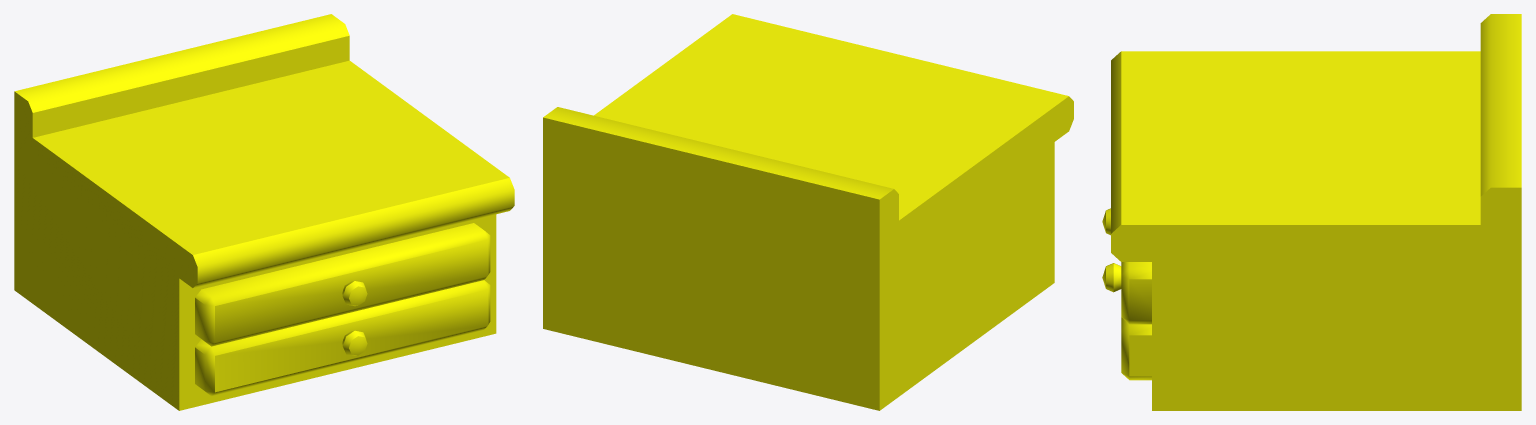
File: kitchencounter_straight_A_backsplash.gltf
3 renders of one model, left to right at view 1: azimuth 30°, elevation 25°; view 2: azimuth 150°, elevation 25°; view 3: azimuth 270°, elevation 25°, orthographic. The views are drawn at different scales.
Visible parts, largest first — view 1: kitchencounter_straight_A_backsplash; view 2: kitchencounter_straight_A_backsplash; view 3: kitchencounter_straight_A_backsplash.
Part boxes in pixels (x1,y1,x2,y2): kitchencounter_straight_A_backsplash: [14, 14, 514, 410]; kitchencounter_straight_A_backsplash: [543, 14, 1073, 410]; kitchencounter_straight_A_backsplash: [1102, 14, 1521, 410].
Bounding box in the file's own units: 2 × 1.2 × 2.04.
Materials: 1 (1 with a texture image).
